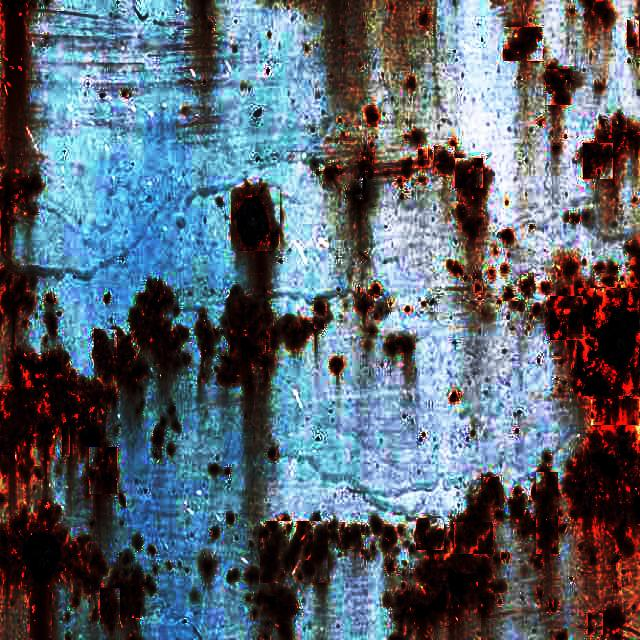Corrosion: (548, 288, 640, 554), (0, 502, 143, 640), (246, 520, 395, 640), (396, 479, 500, 640), (0, 354, 116, 496), (217, 289, 323, 390), (566, 428, 640, 526), (0, 171, 39, 346), (129, 281, 187, 372), (258, 522, 337, 584), (0, 0, 28, 172), (582, 113, 640, 180), (92, 330, 146, 392), (595, 309, 639, 372), (454, 157, 485, 238), (536, 473, 559, 556), (234, 195, 268, 248), (592, 397, 640, 426), (503, 27, 542, 60), (545, 64, 575, 104), (152, 418, 166, 458), (434, 149, 454, 172), (386, 338, 413, 354), (357, 295, 372, 314), (330, 358, 343, 374), (267, 449, 277, 460), (371, 284, 379, 296)
